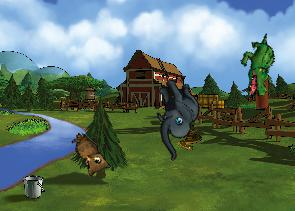crocodile: (234, 33, 283, 99)
elephant: (133, 72, 218, 161)
owl: (61, 130, 114, 182)
